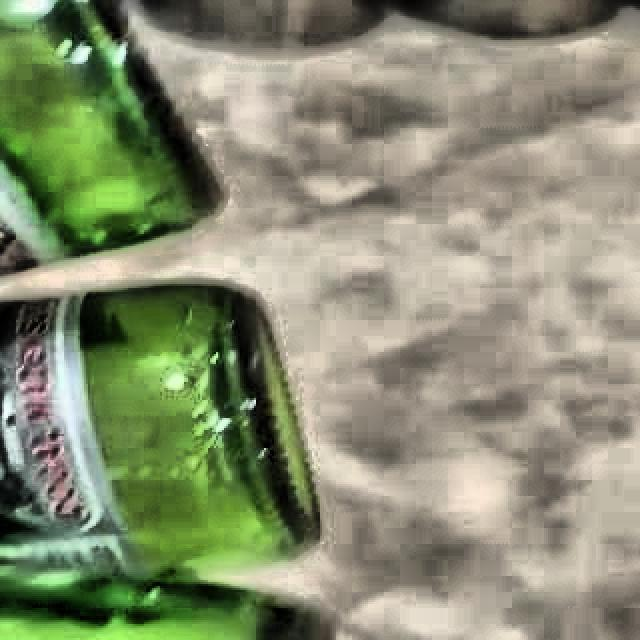glass: (0, 283, 329, 640)
